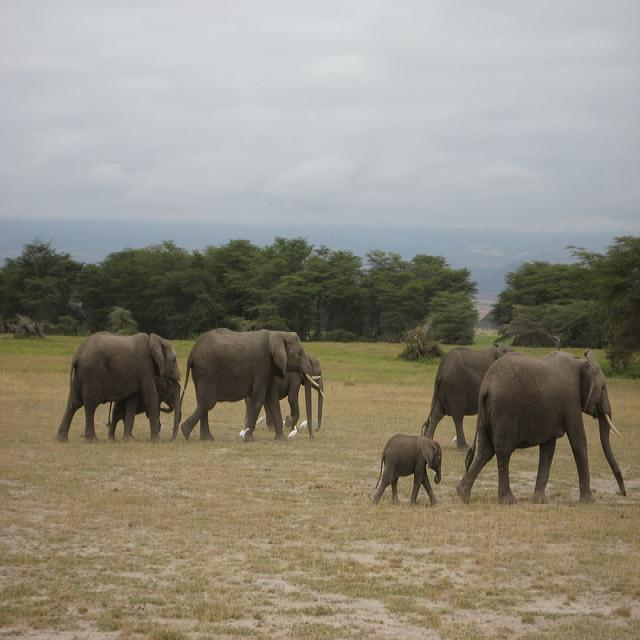Elephant: (456, 347, 626, 505), (178, 327, 324, 441), (56, 329, 182, 443), (420, 341, 523, 448), (371, 433, 442, 507)
